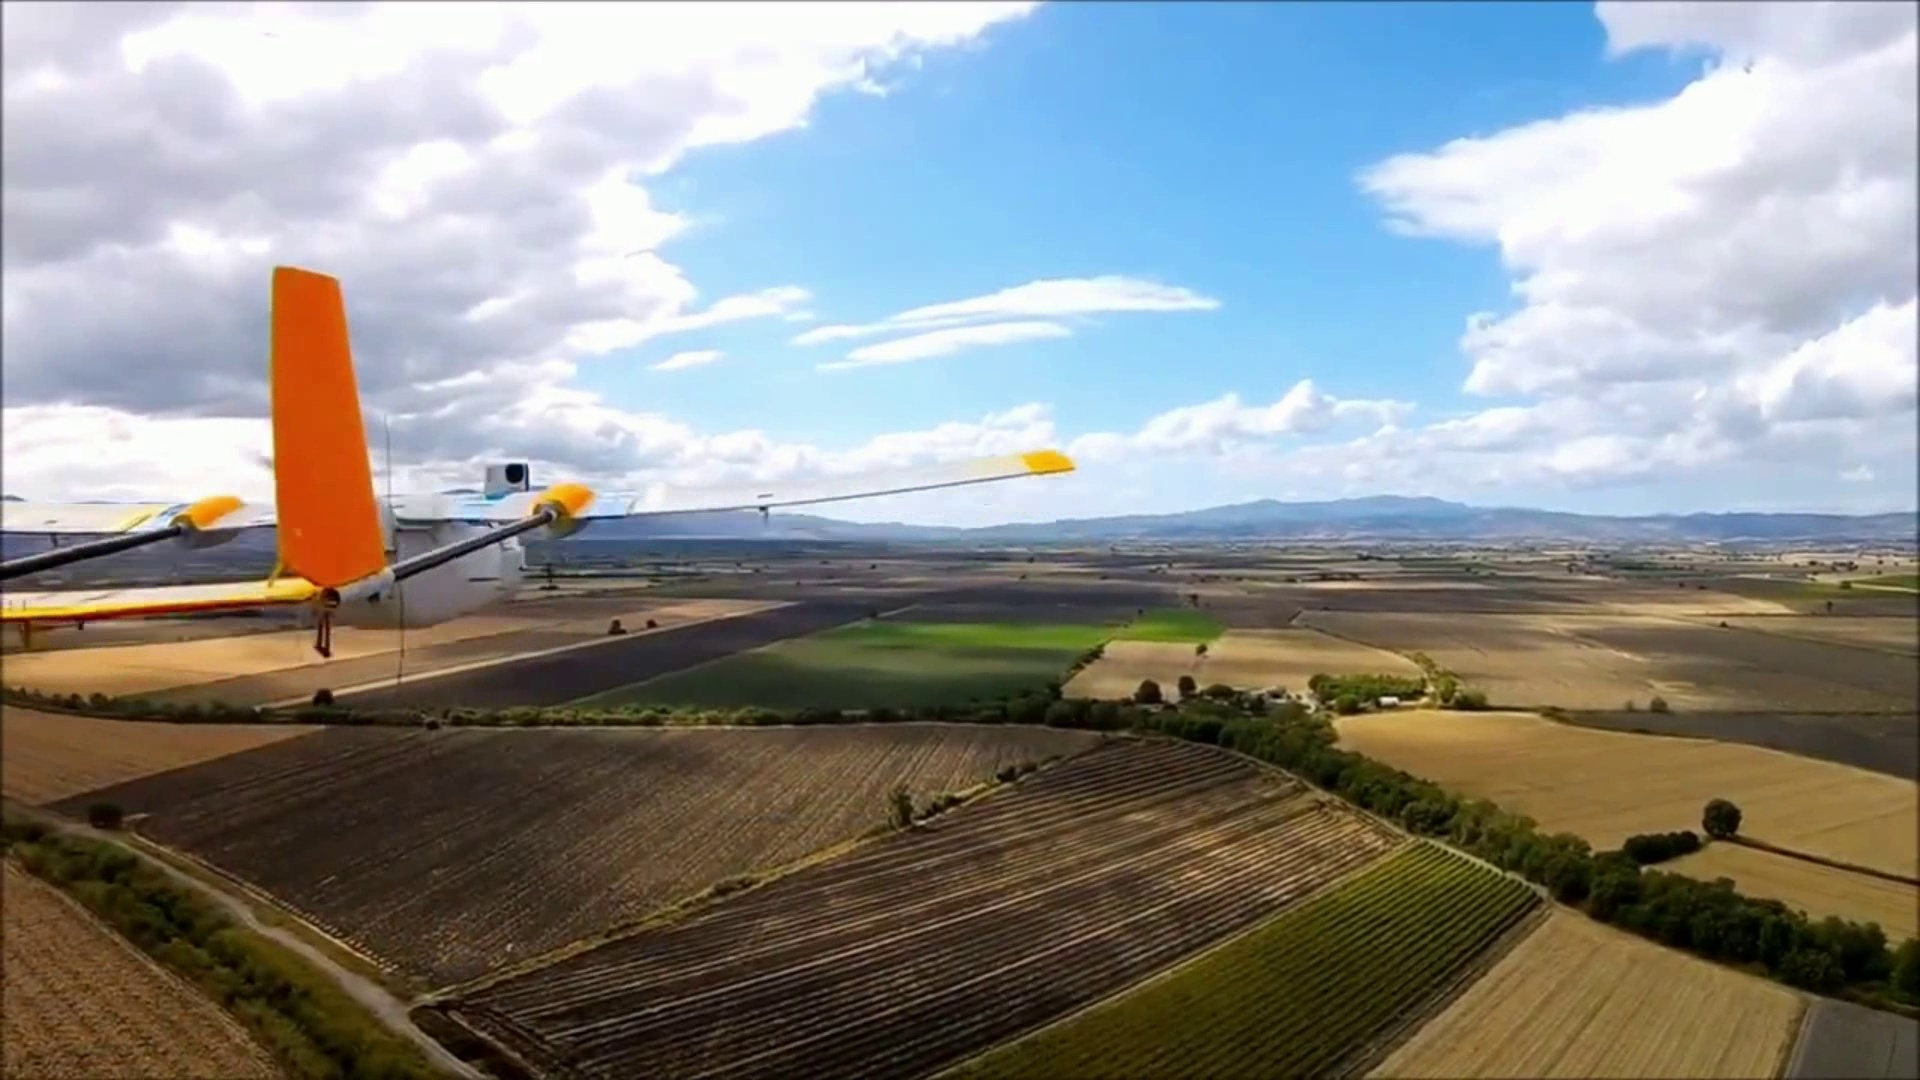airplane: (1, 265, 609, 687), (0, 490, 264, 581)
